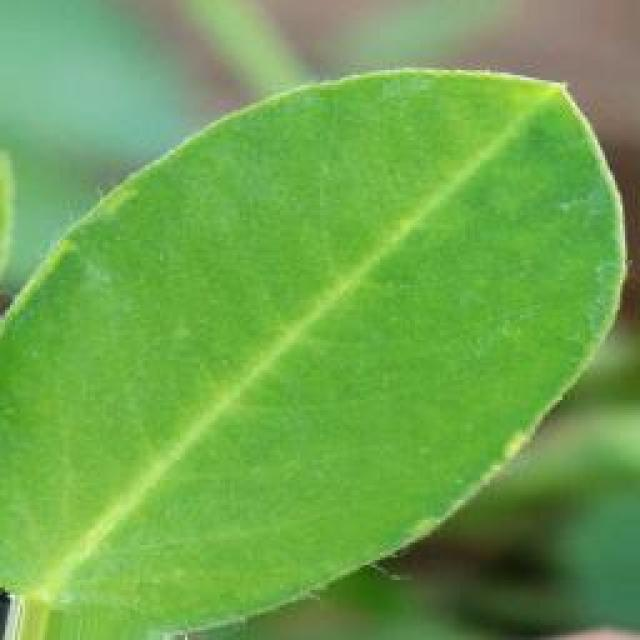Yellow_and_black_sigatoka: (1, 61, 625, 640)
